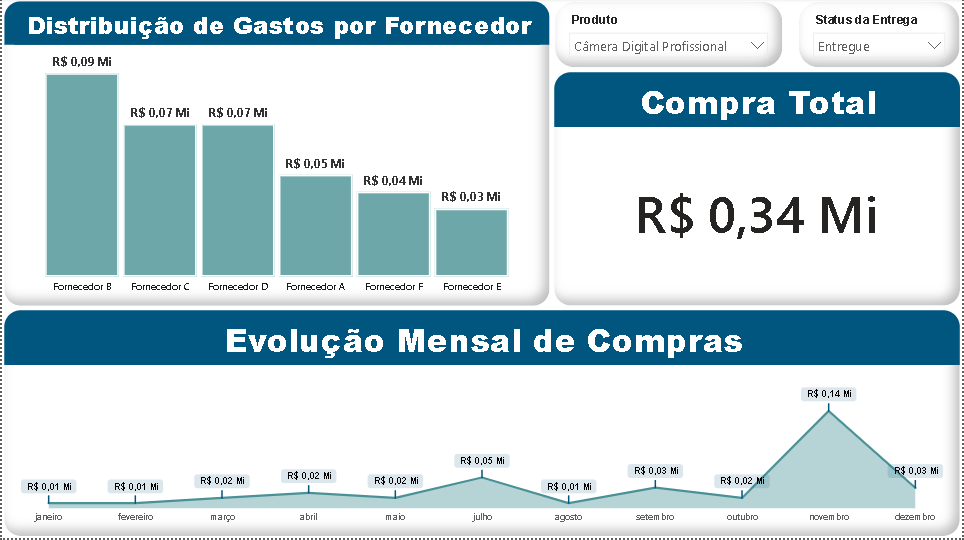

What the dashboard file says about the page in this screenshot:
{"tool":"powerbi","page":{"name":"Página 1","canvas":[1280,720],"ordinal":0},"visuals":[{"type":"cardVisual","title":"Compra Total","fields":{"Data":["Sum(Base de Dados Original.Valor Total (R$))"]},"box":[733.3,96,546.7,317.3],"z":0},{"type":"clusteredColumnChart","title":"Distribuição de Gastos por Fornecedor","fields":{"Y":["Sum(Base de Dados Original.Valor Total (R$))"],"Category":["Base de Dados Original.Fornecedor"]},"box":[0,1.3,733.3,412],"z":1000},{"type":"areaChart","title":"Evolução Mensal de Compras","fields":{"Category":["Base de Dados Original.Data da Compra.Variation.Hierarquia de datas.Mês"],"Y":["Sum(Base de Dados Original.Valor Total (R$))"]},"box":[0,412.9,1280,306.9],"z":2000},{"type":"slicer","fields":{"Values":["Base de Dados Original.Produto"]},"box":[733.6,1.4,311.1,95],"z":3000},{"type":"slicer","fields":{"Values":["Base de Dados Original.Status da Entrega"]},"box":[1058.4,1.4,221.6,95],"z":4000}]}

Visuals, with their boxes in screenshot pixels (x1, y1, x2, y2), scaled from the page's 1280x720 canvas onto the 964x540 screenshot:
"Compra Total" cardVisual: <bbox>552, 72, 963, 310</bbox>
"Distribuição de Gastos por Fornecedor" clusteredColumnChart: <bbox>0, 1, 552, 310</bbox>
"Evolução Mensal de Compras" areaChart: <bbox>0, 310, 963, 539</bbox>
slicer - Base de Dados Original.Produto: <bbox>552, 1, 787, 72</bbox>
slicer - Base de Dados Original.Status da Entrega: <bbox>797, 1, 963, 72</bbox>
